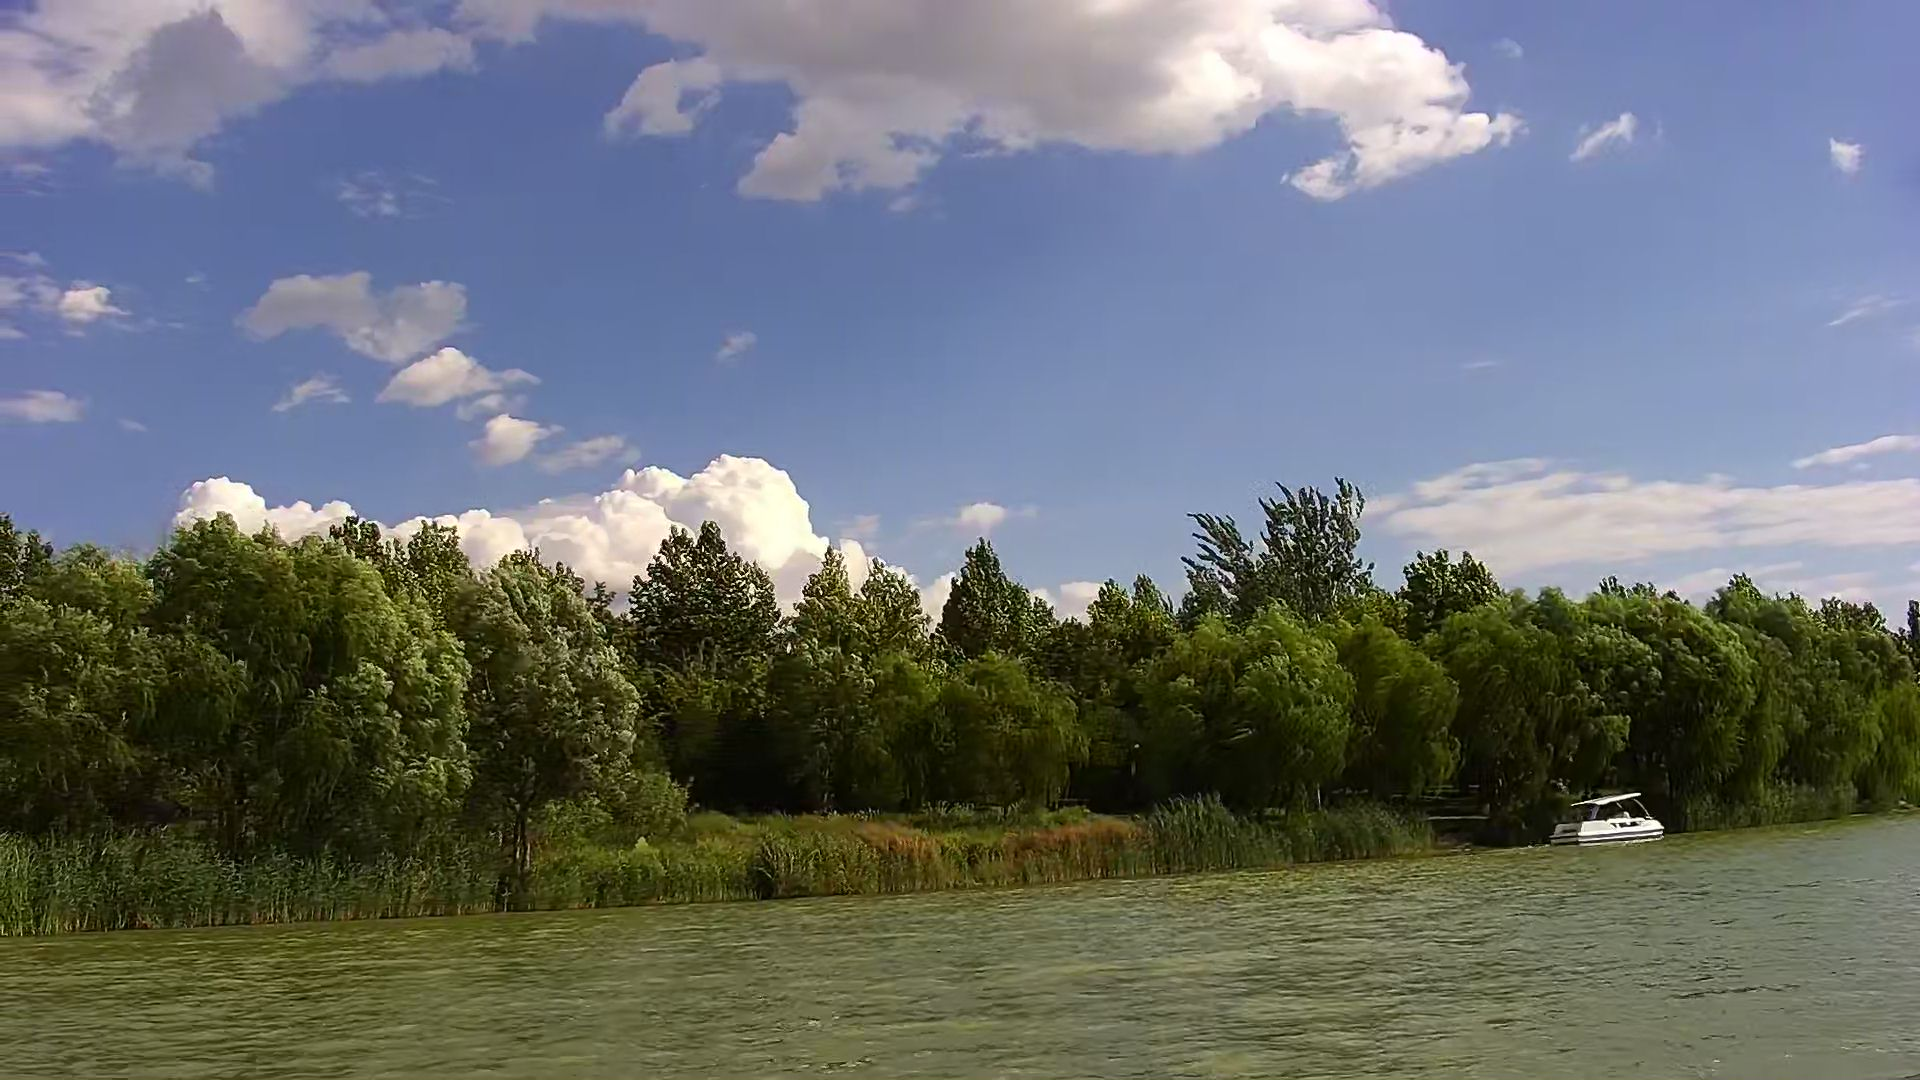boat: (1549, 793, 1663, 845)
